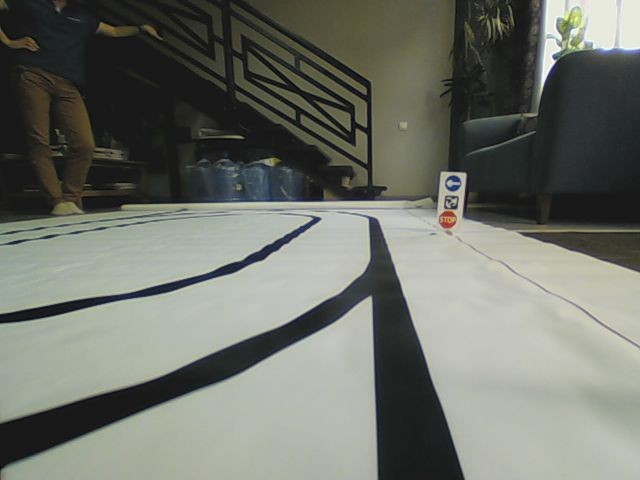Stop: (437, 209, 457, 228)
